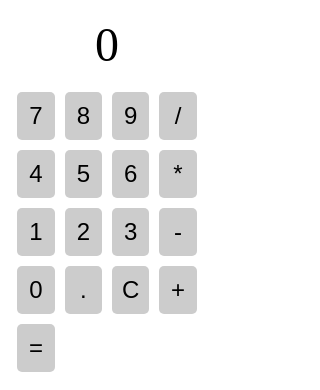
Test: Testando o Calculator › Deve retornar o valor dividido corretamente
Click the button "2".
click(83, 232)  # box [65,208,102,256]
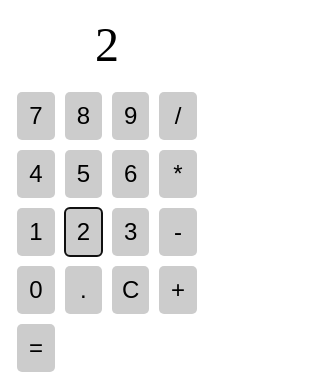
Click the button "4".
click(36, 174)  # box [17,150,55,198]
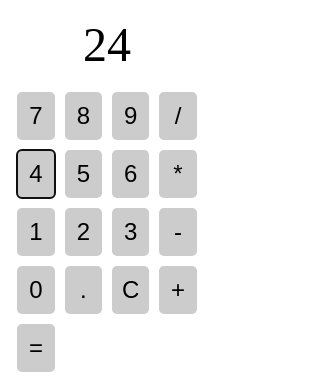
Click the button "/".
click(178, 116)  # box [159,92,197,140]
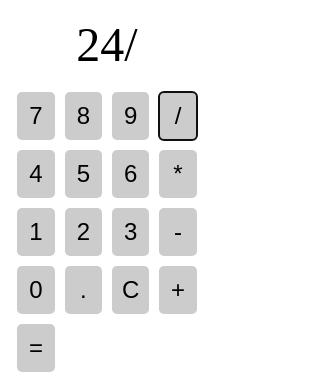
Click the button "2".
click(83, 232)  # box [65,208,102,256]
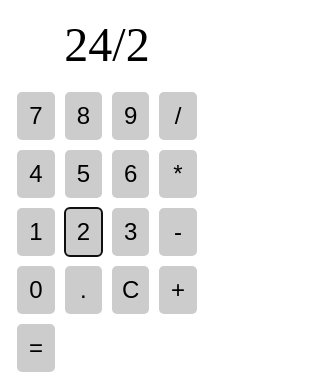
Click the button "=".
click(36, 348)  # box [17,324,55,372]
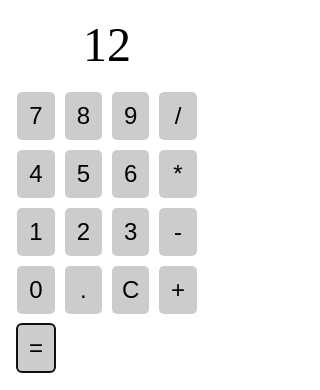
Check: the text "12" is shown, box [83,16,131,72]
